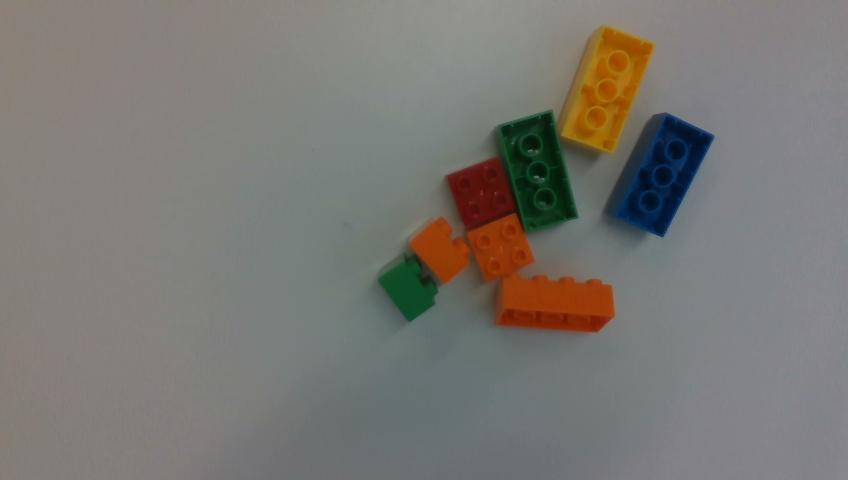2x2_green: (378, 252, 436, 321)
2x2_orange: (468, 213, 534, 280), (410, 217, 469, 282)
2x2_red: (447, 157, 516, 231)
4x2_blue: (604, 113, 713, 235)
4x2_green: (497, 111, 577, 232)
4x2_orange: (495, 272, 614, 332)
4x2_yellow: (558, 26, 653, 151)
